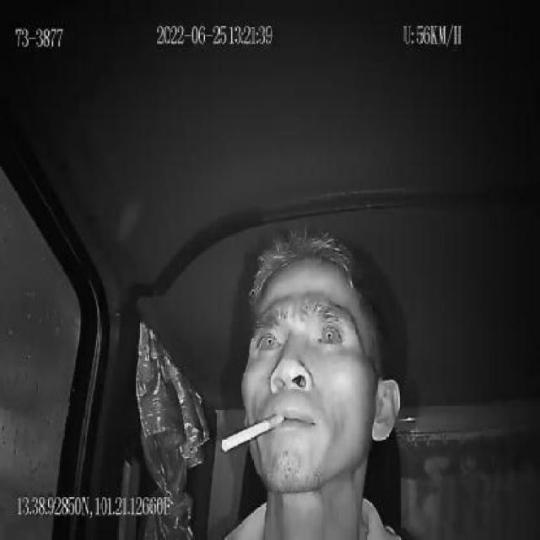smoking: (220, 414, 284, 453)
